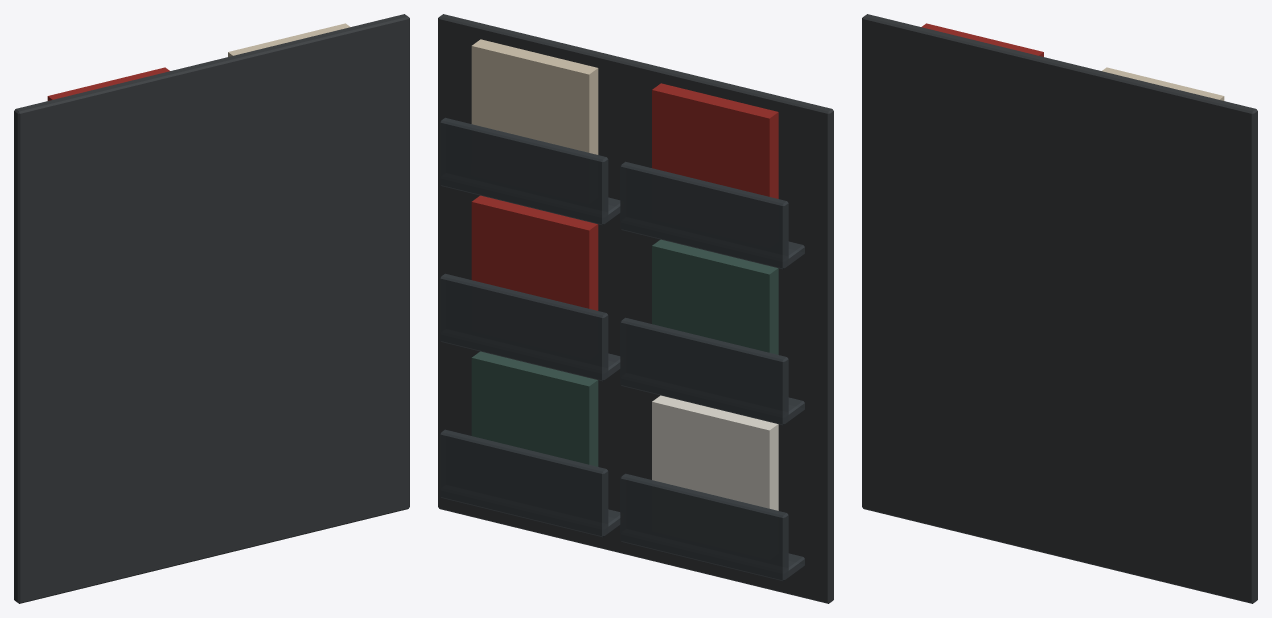
The model's file is prop_leaflet_rack.glb.
The picture shows the model from 3 angles, left to right: view 1: azimuth 30°, elevation 25°; view 2: azimuth 150°, elevation 25°; view 3: azimuth 330°, elevation 25°; orthographic projection.
Visible parts, largest first — view 1: Rack; view 2: Rack; view 3: Rack.
Boxes of the visible parts, x1,y1,x2,y2 form: Rack: (14,14,409,603); Rack: (438,14,833,603); Rack: (862,14,1257,603).
Bounding box in the file's own units: 0.5 × 0.6 × 0.06.
